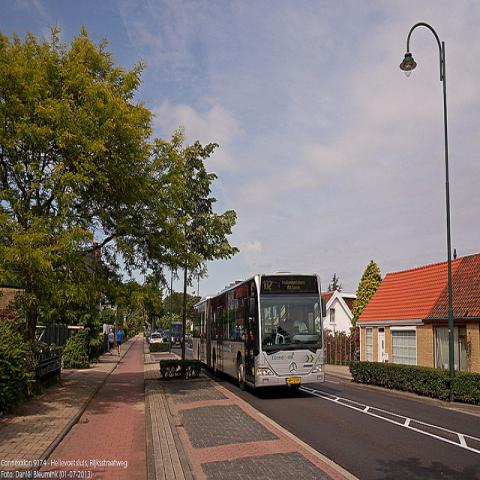bus: (194, 273, 326, 388)
car: (172, 321, 183, 348), (148, 333, 164, 343), (164, 330, 169, 342), (190, 336, 194, 347)
